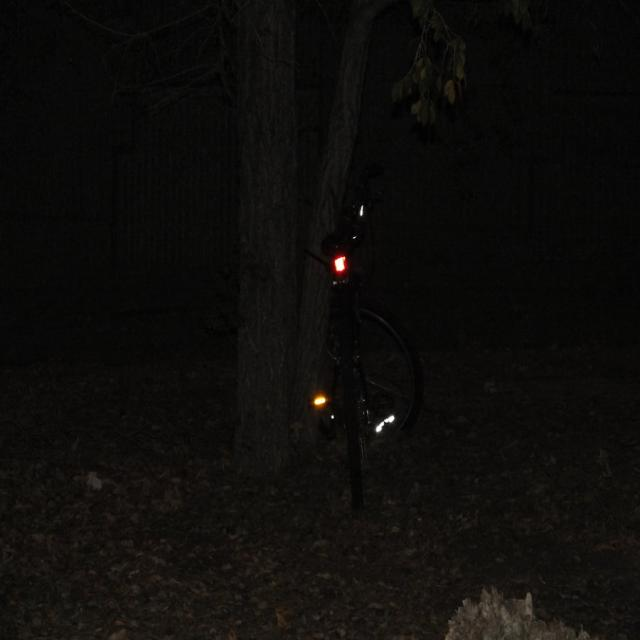Bicycle: (290, 144, 433, 530)
